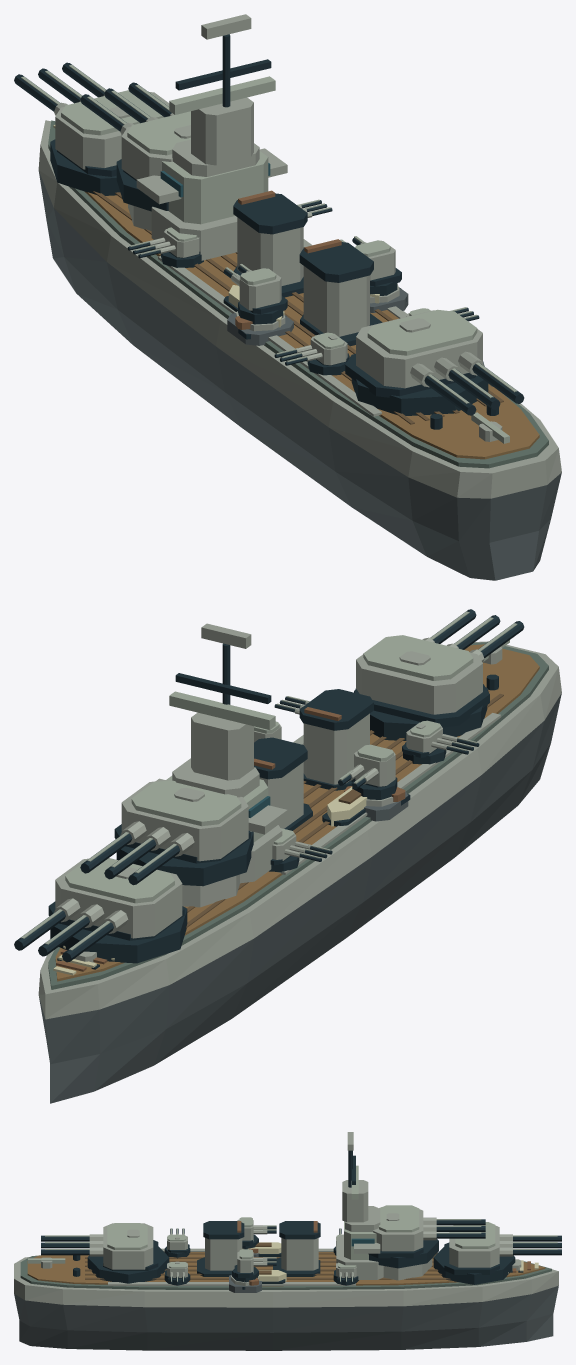
The model's file is historic-roma.glb.
The picture shows the model from 3 angles, top to bottom: view 1: azimuth 30°, elevation 25°; view 2: azimuth 150°, elevation 25°; view 3: azimuth 270°, elevation 25°; orthographic projection. The views are drawn at different scales.
Visible parts, largest first — view 1: historic-roma-historic-roma-geometry, historic-roma-part_bridge.041-geometry, historic-roma-turret_main_2.028-geometry, historic-roma-turret_main_0.031-geometry, historic-roma-historic_funnel_1.021-geometry, historic-roma-turret_main_1.030-geometry, historic-roma-historic_funnel_0.042-geometry, historic-roma-turret_aa_aa-port.043-geometry, historic-roma-turret_secondary_1.010-geometry, historic-roma-turret_secondary_0.010-geometry, historic-roma-turret_aa_aa-starboard.041-geometry, historic-roma-part_aa-port.043-geometry; view 2: historic-roma-historic-roma-geometry, historic-roma-turret_main_2.028-geometry, historic-roma-turret_main_1.030-geometry, historic-roma-turret_main_0.031-geometry, historic-roma-part_bridge.041-geometry, historic-roma-historic_funnel_1.021-geometry, historic-roma-historic_funnel_0.042-geometry, historic-roma-turret_aa_aa-port.043-geometry, historic-roma-turret_secondary_1.010-geometry, historic-roma-turret_secondary_0.010-geometry, historic-roma-part_aa-port.043-geometry; view 3: historic-roma-historic-roma-geometry, historic-roma-turret_main_2.028-geometry, historic-roma-turret_main_0.031-geometry, historic-roma-turret_main_1.030-geometry, historic-roma-part_bridge.041-geometry, historic-roma-historic_funnel_0.042-geometry, historic-roma-historic_funnel_1.021-geometry, historic-roma-turret_aa_aa-starboard.041-geometry, historic-roma-turret_aa_aa-port.043-geometry, historic-roma-turret_secondary_1.010-geometry, historic-roma-turret_secondary_3.008-geometry, historic-roma-turret_secondary_2.008-geometry (+1 smaller).
Boxes of the visible parts, x1,y1,x2,y2 form: historic-roma-historic-roma-geometry: (38,120,561,580); historic-roma-part_bridge.041-geometry: (136,14,287,260); historic-roma-turret_main_2.028-geometry: (345,309,524,415); historic-roma-turret_main_0.031-geometry: (14,62,169,195); historic-roma-historic_funnel_1.021-geometry: (299,239,382,346); historic-roma-turret_main_1.030-geometry: (80,82,190,211); historic-roma-historic_funnel_0.042-geometry: (233,190,307,297); historic-roma-turret_aa_aa-port.043-geometry: (223,264,287,324); historic-roma-turret_secondary_1.010-geometry: (274,332,349,375); historic-roma-turret_secondary_0.010-geometry: (127,227,203,267); historic-roma-turret_aa_aa-starboard.041-geometry: (340,236,401,295); historic-roma-part_aa-port.043-geometry: (227,311,293,345); historic-roma-historic-roma-geometry: (38,640,561,1103); historic-roma-turret_main_2.028-geometry: (354,609,524,740); historic-roma-turret_main_1.030-geometry: (80,779,253,886); historic-roma-turret_main_0.031-geometry: (14,858,187,963); historic-roma-part_bridge.041-geometry: (156,623,287,883); historic-roma-historic_funnel_1.021-geometry: (299,689,373,790); historic-roma-historic_funnel_0.042-geometry: (254,737,312,830); historic-roma-turret_aa_aa-port.043-geometry: (338,744,397,799); historic-roma-turret_secondary_1.010-geometry: (402,720,479,764); historic-roma-turret_secondary_0.010-geometry: (269,828,332,872); historic-roma-part_aa-port.043-geometry: (364,786,408,821); historic-roma-historic-roma-geometry: (14,1242,558,1350); historic-roma-turret_main_2.028-geometry: (41,1223,169,1283); historic-roma-turret_main_0.031-geometry: (433,1222,561,1284); historic-roma-turret_main_1.030-geometry: (368,1205,485,1268); historic-roma-part_bridge.041-geometry: (336,1132,383,1279); historic-roma-historic_funnel_0.042-geometry: (273,1221,320,1276); historic-roma-historic_funnel_1.021-geometry: (197,1221,244,1276); historic-roma-turret_aa_aa-starboard.041-geometry: (232,1249,276,1282); historic-roma-turret_aa_aa-port.043-geometry: (237,1217,276,1249); historic-roma-turret_secondary_1.010-geometry: (164,1228,190,1258); historic-roma-turret_secondary_3.008-geometry: (164,1261,190,1285); historic-roma-turret_secondary_2.008-geometry: (333,1262,358,1285).
Size of the model in its own units: 1.12 by 1.92 by 4.82.
